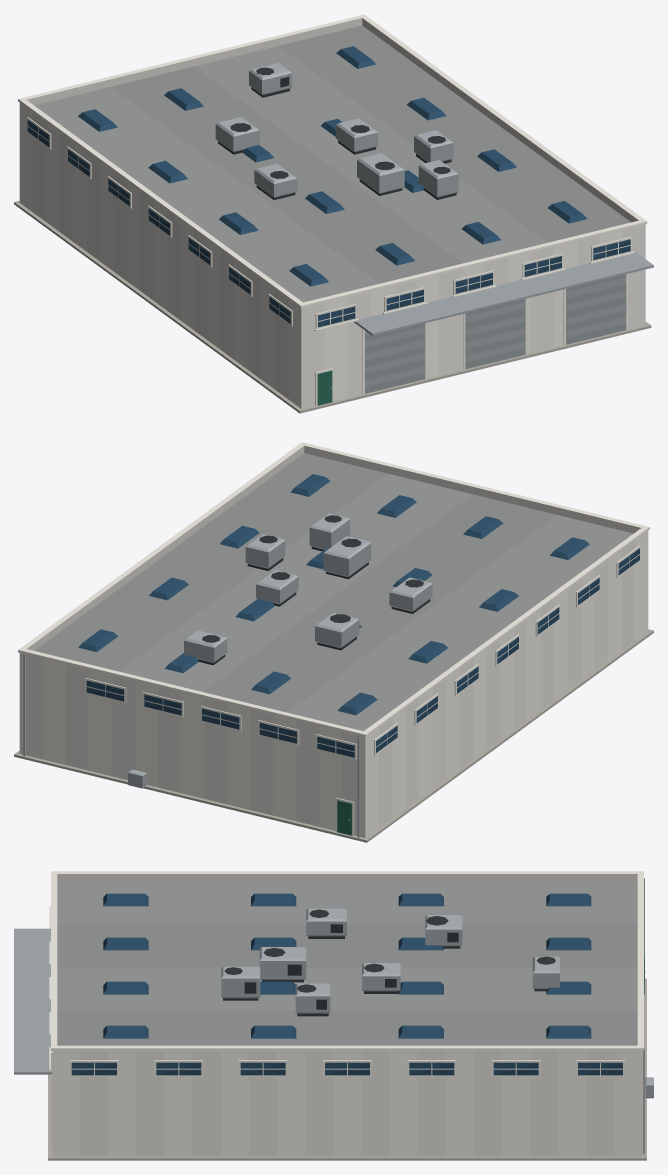
The model's file is hall_24x34.glb.
3 views of the same model, one above another, from view 1: azimuth 30°, elevation 25°; view 2: azimuth 150°, elevation 25°; view 3: azimuth 270°, elevation 25° (orthographic). The views are drawn at different scales.
Visible parts, largest first — view 1: block; view 2: block; view 3: block.
Part boxes in pixels (x1,y1,x2,y2): block: (14, 14, 653, 413); block: (14, 442, 653, 842); block: (14, 871, 653, 1160).
Size of the model in its own units: 24.5 by 8.12 by 36.85.
